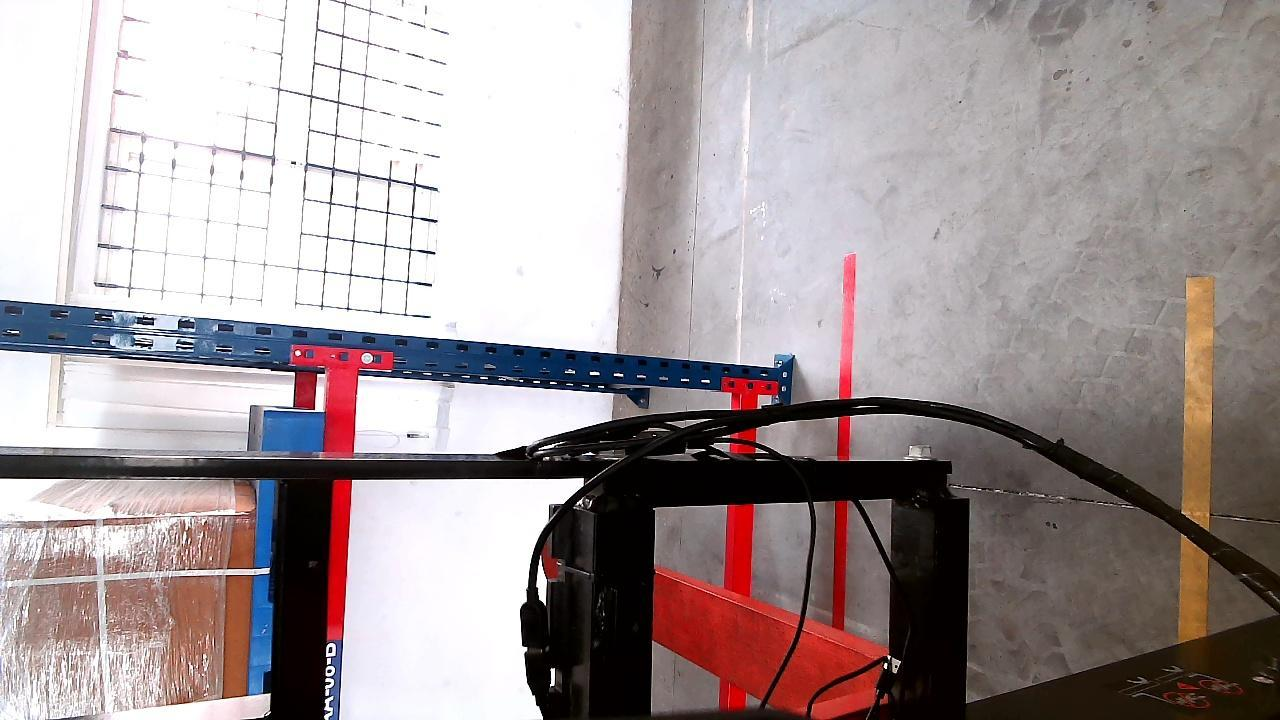red_line: (830, 253, 858, 629)
yellow_line: (1180, 271, 1215, 645)
